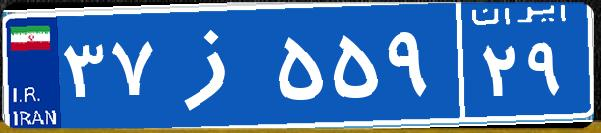2: (475, 38, 525, 113)
3: (57, 26, 110, 107)
5: (273, 28, 330, 110), (330, 28, 385, 110)
7: (110, 28, 158, 105)
9: (385, 28, 445, 110), (525, 38, 570, 115)
ز: (158, 15, 273, 115)
